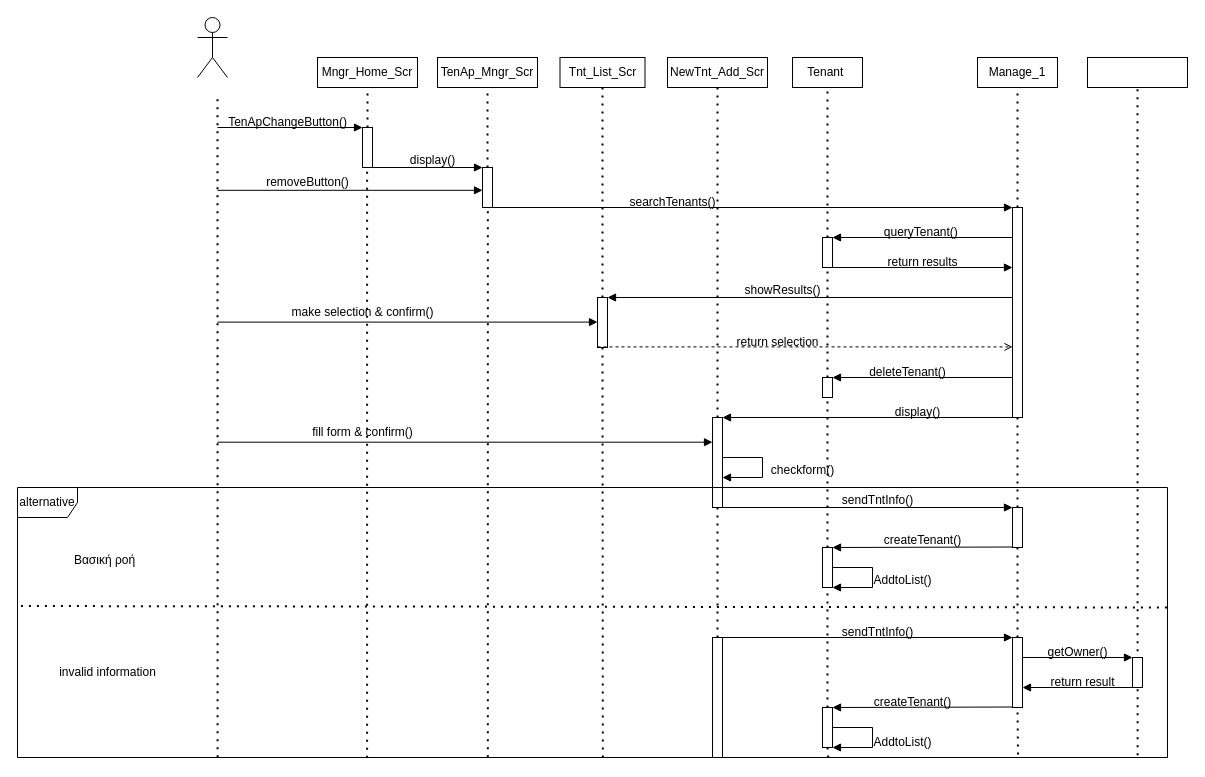
The diagram is 1205 pixels wide and 777 high, and some of its shapes have lost their labels. Here are the shapes that lost their labels. From the top down, the centre of each, then its label:
point (212, 47): Manager
point (1137, 72): Apartment
